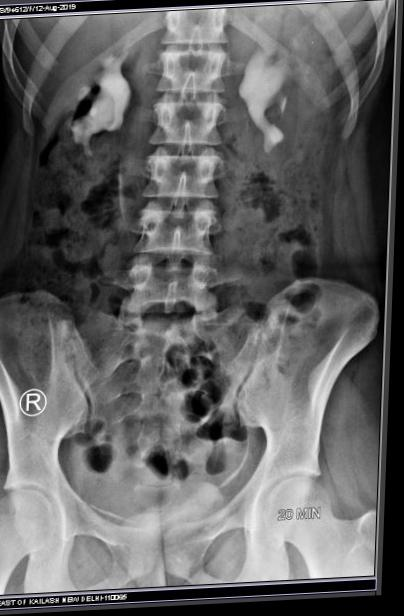vertebrae: (162, 36, 232, 97)
